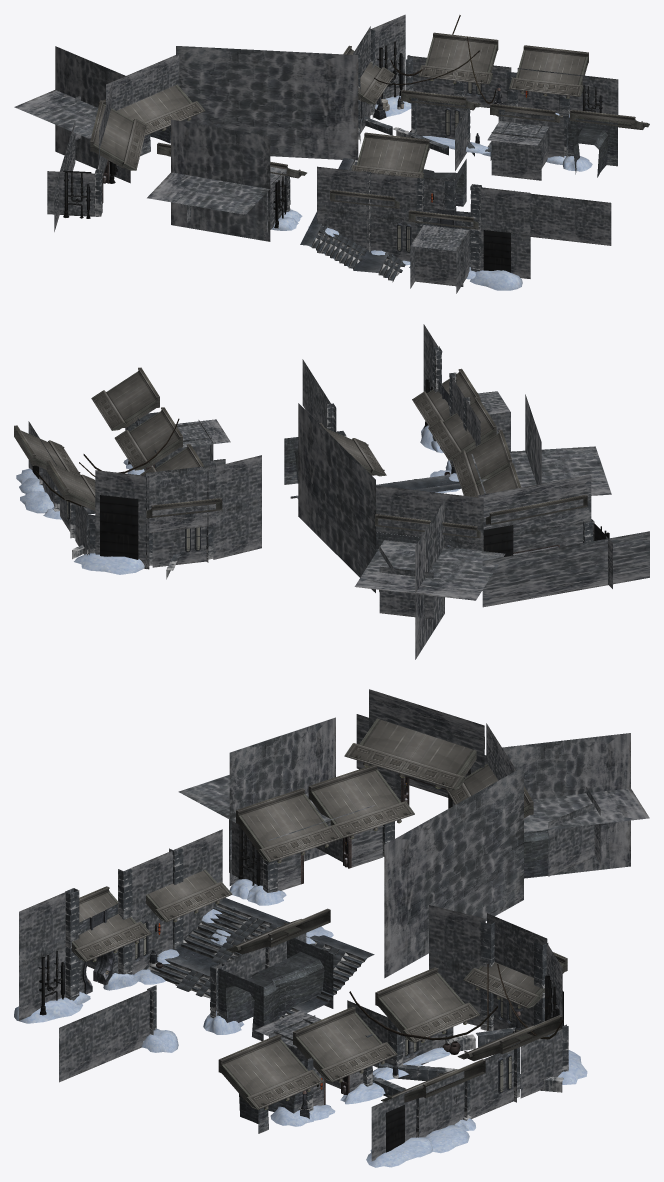
The model's file is env_kiji_thieves_quarter_01_pre.glb.
The picture shows the model from 3 angles, top to bottom: view 1: azimuth 30°, elevation 25°; view 2: azimuth 150°, elevation 25°; view 3: azimuth 270°, elevation 25°; orthographic projection. The views are drawn at different scales.
Parts seen in each view (by area): view 1: kiji_wall_01b_mesh (30), kiji_wall_01b_mesh (26), kiji_wall_01b_mesh (24) (×2), kiji_wall_01b_mesh (25), kiji_roof_01_mesh (9), kiji_roof_01_mesh (11), kiji_roof_01_mesh (6), kiji_stairs_01b_mesh (1), kiji_roof_01_mesh (3), kiji_wall_01b_mesh (27), kiji_wall_01b_mesh (6), kiji_roof_01_mesh (2) (+40 smaller); view 2: kiji_wall_01b_mesh (30), kiji_wall_01b_mesh (29), kiji_wall_01b_mesh (19) (×2), kiji_wall_01b_mesh (22), kiji_wall_01b_mesh (23), kiji_wall_01b_mesh (24) (×2), kiji_wall_01b_mesh (20) (×2), kiji_wall_01b_mesh (25), kiji_wall_01b_mesh (17) (×2), kiji_roof_01_mesh (8), kiji_roof_01_mesh (7), cor_pipes_01_mesh (5) (+25 smaller); view 3: kiji_wall_01b_mesh (30), kiji_wall_01b_mesh (24) (×2), kiji_wall_01b_mesh (26), kiji_roof_01_mesh (3), kiji_roof_01_mesh (4), kiji_roof_01_mesh (5), kiji_roof_01_mesh (8), kiji_roof_01_mesh (7), kiji_roof_01_mesh (10), kiji_stairs_01b_mesh, kiji_wall_01b_mesh (23), kiji_wall_01b_mesh (18) (×2) (+47 smaller).
Boxes of the visible parts, x1,y1,x2,y2 form: kiji_wall_01b_mesh (30): (176, 46, 358, 160); kiji_wall_01b_mesh (26): (171, 119, 270, 241); kiji_wall_01b_mesh (24) (×2): (55, 46, 549, 183); kiji_wall_01b_mesh (25): (147, 166, 286, 214); kiji_roof_01_mesh (9): (509, 45, 588, 98); kiji_roof_01_mesh (11): (418, 32, 498, 86); kiji_roof_01_mesh (6): (351, 132, 429, 178); kiji_stairs_01b_mesh (1): (300, 216, 405, 282); kiji_roof_01_mesh (3): (90, 100, 147, 170); kiji_wall_01b_mesh (27): (561, 197, 611, 245); kiji_wall_01b_mesh (6): (480, 187, 530, 235); kiji_roof_01_mesh (2): (98, 84, 205, 135); kiji_wall_01b_mesh (30): (298, 403, 375, 592); kiji_wall_01b_mesh (29): (482, 531, 649, 607); kiji_wall_01b_mesh (19) (×2): (146, 465, 429, 537); kiji_wall_01b_mesh (22): (354, 540, 505, 600); kiji_wall_01b_mesh (23): (478, 475, 591, 535); kiji_wall_01b_mesh (24) (×2): (175, 419, 444, 659); kiji_wall_01b_mesh (20) (×2): (95, 470, 433, 619); kiji_wall_01b_mesh (25): (471, 446, 611, 495); kiji_wall_01b_mesh (17) (×2): (95, 492, 483, 569); kiji_roof_01_mesh (8): (91, 367, 159, 430); kiji_roof_01_mesh (7): (114, 407, 182, 470); cor_pipes_01_mesh (5): (100, 495, 138, 559); kiji_wall_01b_mesh (30): (384, 766, 523, 978); kiji_wall_01b_mesh (24) (×2): (254, 733, 630, 1047); kiji_wall_01b_mesh (26): (229, 717, 335, 885); kiji_roof_01_mesh (3): (344, 718, 484, 789); kiji_roof_01_mesh (4): (236, 788, 341, 862); kiji_roof_01_mesh (5): (308, 764, 414, 838); kiji_roof_01_mesh (8): (218, 1034, 323, 1109); kiji_roof_01_mesh (7): (293, 1006, 397, 1082); kiji_roof_01_mesh (10): (375, 967, 479, 1042); kiji_stairs_01b_mesh: (162, 904, 289, 998); kiji_wall_01b_mesh (23): (369, 689, 484, 774); kiji_wall_01b_mesh (18) (×2): (429, 803, 594, 1025).
Size of the model in its own units: 71.13 by 15.49 by 53.89.
Materials: 14 (14 with a texture image).
